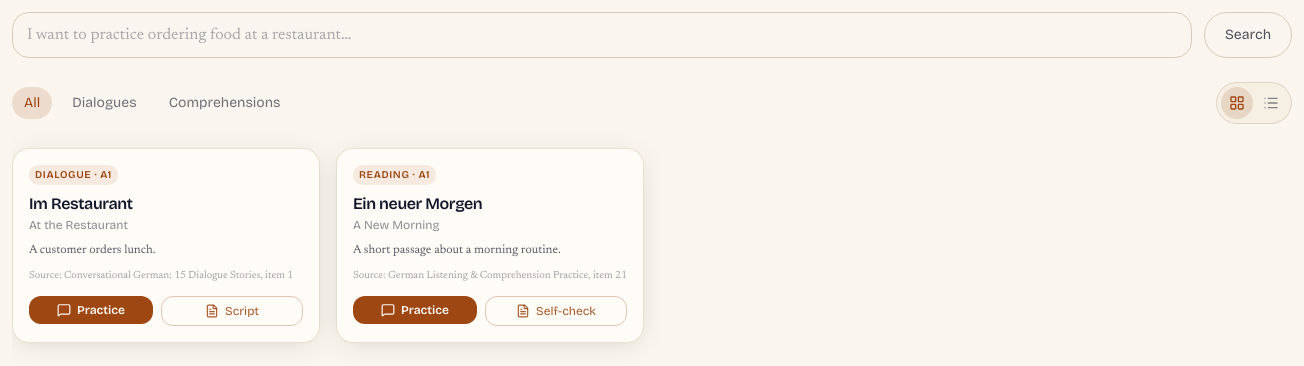
the layout toggle › survives a filter change and keeps the chosen layout
The width and height of the screenshot is (1304, 366).
Click the button named "List view": (1271, 103) x1=1255 y1=87 x2=1287 y2=119
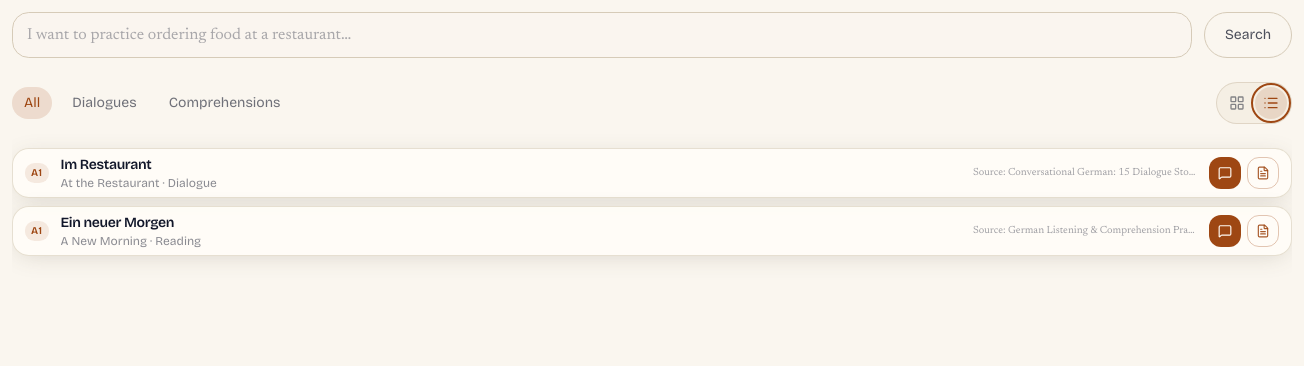
Click the button "Dialogues": (104, 103) x1=60 y1=87 x2=149 y2=119
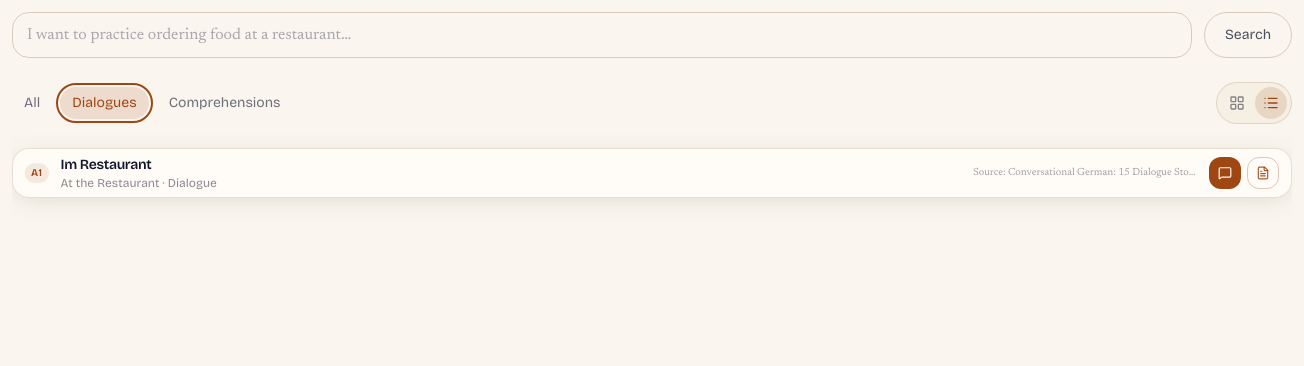
Expected: the link "Im Restaurant" is shown, x1=61 y1=156 x2=151 y2=173
Expected: the link "Ein neuer Morgen" is gone
